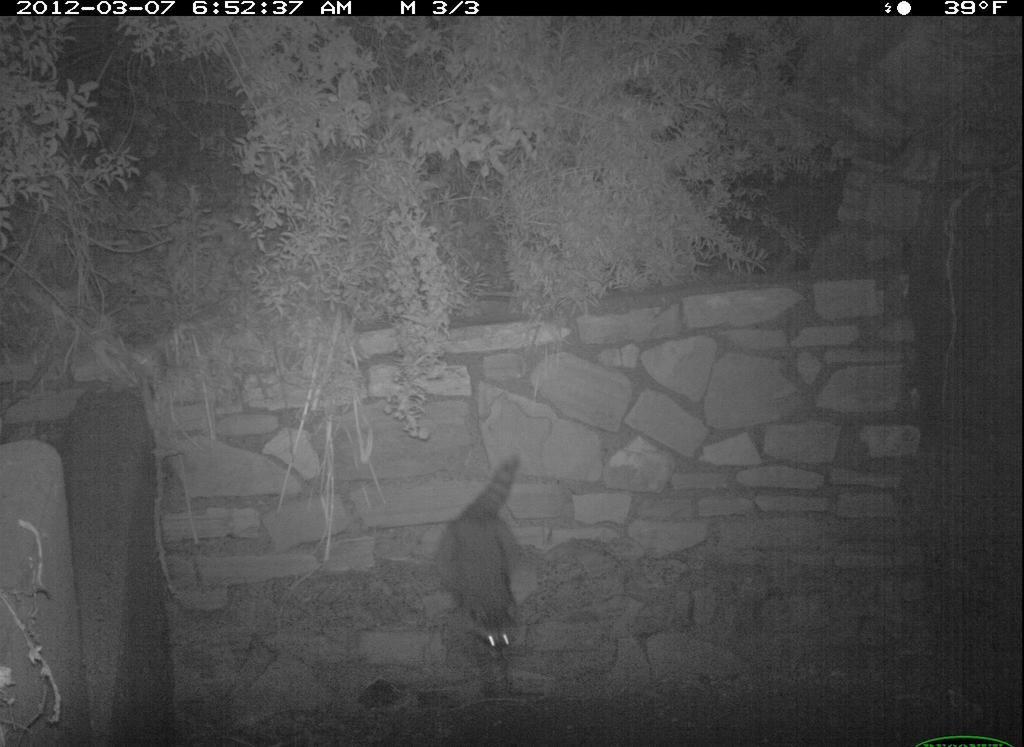raccoon: (413, 441, 573, 682)
